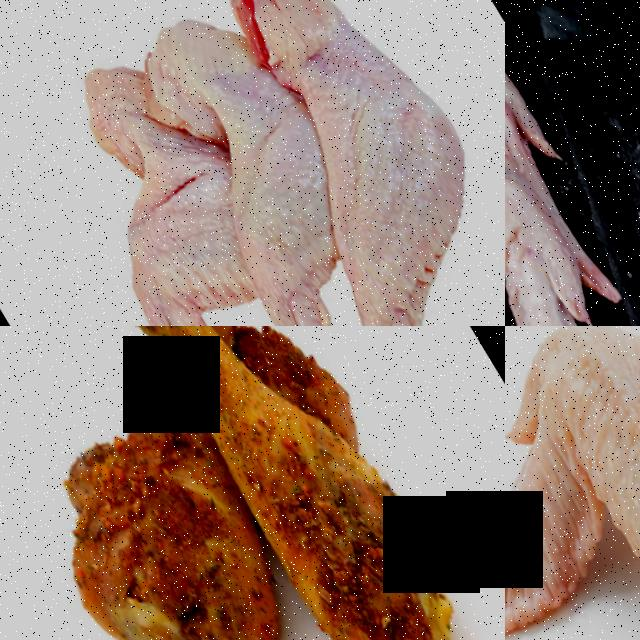chicken thigh: (58, 326, 483, 640)
chicken wing: (0, 13, 377, 326), (166, 0, 505, 326), (505, 326, 640, 640), (505, 0, 625, 326)
